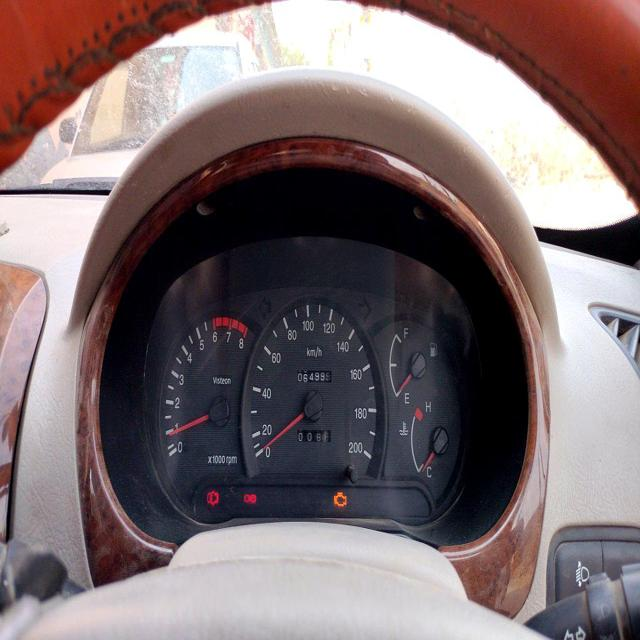odometer: (298, 368, 331, 383)
